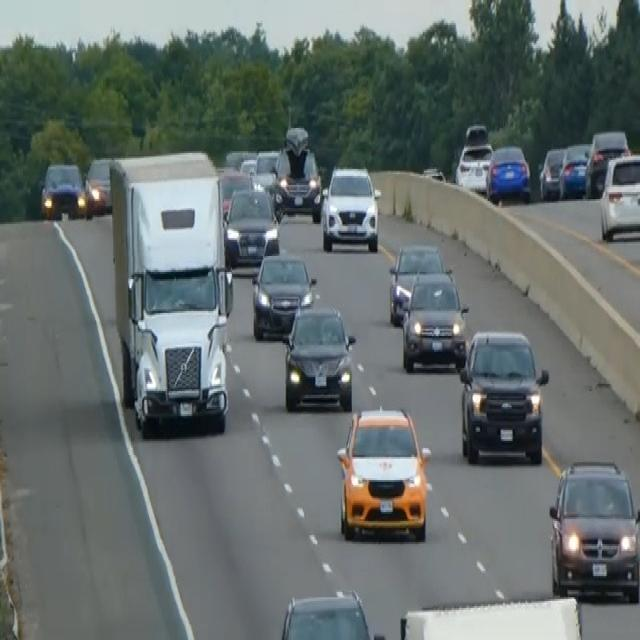car: (547, 455, 639, 603), (335, 404, 431, 542), (458, 325, 549, 466), (399, 594, 586, 638), (281, 302, 356, 411), (400, 268, 469, 372), (250, 249, 316, 339), (275, 587, 386, 638), (321, 162, 381, 252), (388, 240, 444, 325), (223, 183, 279, 267), (273, 124, 322, 220), (599, 151, 639, 240), (584, 128, 630, 197), (485, 143, 531, 205), (40, 160, 86, 220), (455, 121, 493, 192), (217, 164, 253, 222), (558, 141, 591, 199), (84, 155, 114, 217), (251, 169, 284, 222), (538, 144, 565, 199), (254, 148, 279, 190), (224, 148, 256, 172), (422, 164, 445, 183)
lorry: (108, 147, 234, 436)
